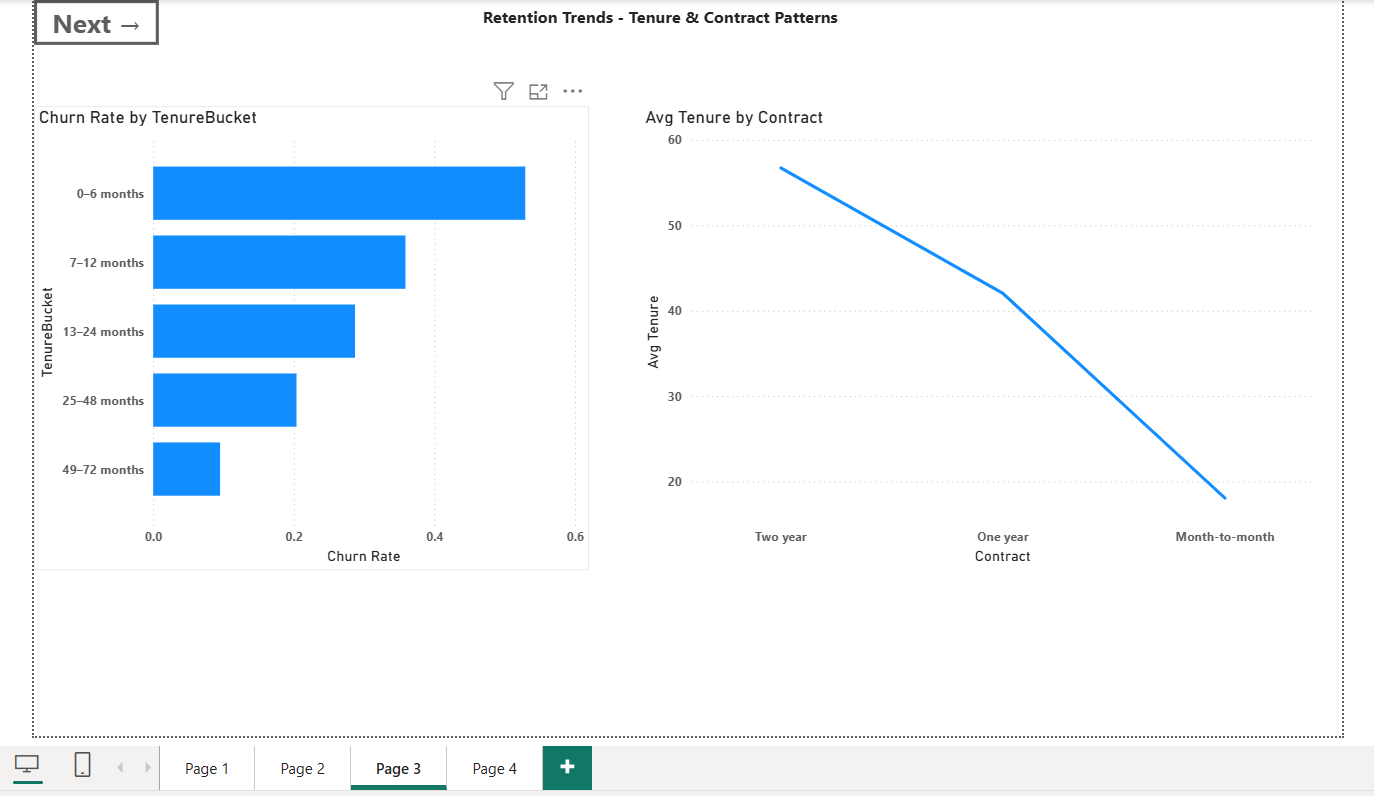

This screenshot's page, from the dashboard's own definition file:
{"tool":"powerbi","page":{"name":"Page 3","canvas":[1280,720],"ordinal":2},"visuals":[{"type":"clusteredBarChart","fields":{"Y":["Telco-Customer-Churn - WA_Fn-UseC_-Telco-Customer-Churn.Churn Rate"],"Category":["Telco-Customer-Churn - WA_Fn-UseC_-Telco-Customer-Churn.TenureBucket"]},"box":[0,104.3,543.4,452.8],"z":0},{"type":"lineChart","fields":{"Category":["Telco-Customer-Churn - WA_Fn-UseC_-Telco-Customer-Churn.Contract"],"Y":["Telco-Customer-Churn - WA_Fn-UseC_-Telco-Customer-Churn.Avg Tenure"]},"box":[592.8,104.3,664.2,452.8],"z":1000},{"type":"actionButton","box":[0,0,122.1,43.9],"z":2000},{"type":"textbox","box":[423.1,0,379.1,55],"z":3000}]}

Visuals, with their boxes on the page's 1280x720 design canvas (x1, y1, x2, y2). These are canvas units, not pixel positions in the 1374x796 screenshot, which may show the page scaled, cropped or inside an application window:
clusteredBarChart - Telco-Customer-Churn - WA_Fn-UseC_-Telco-Customer-Churn.Churn Rate x Telco-Customer-Churn - WA_Fn-UseC_-Telco-Customer-Churn.TenureBucket: bbox=(0, 104, 543, 557)
lineChart - Telco-Customer-Churn - WA_Fn-UseC_-Telco-Customer-Churn.Contract x Telco-Customer-Churn - WA_Fn-UseC_-Telco-Customer-Churn.Avg Tenure: bbox=(593, 104, 1257, 557)
actionButton: bbox=(0, 0, 122, 44)
textbox: bbox=(423, 0, 802, 55)
